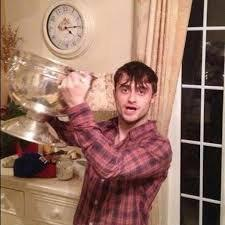Drunk: (114, 72, 153, 122)
